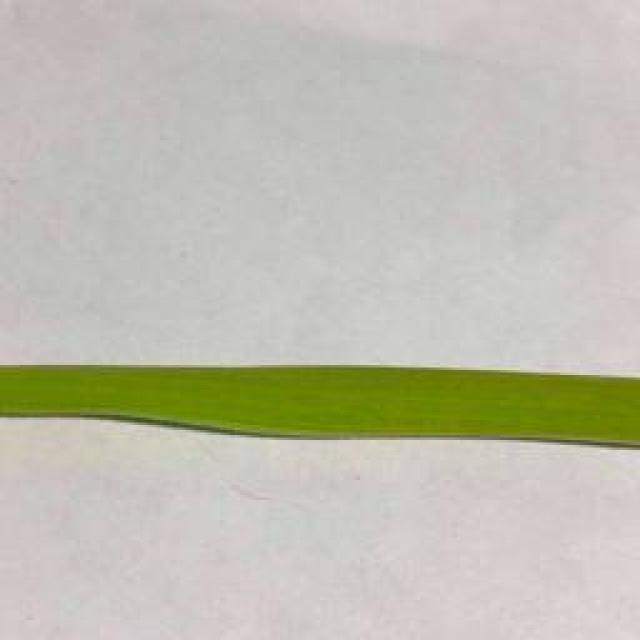Healthy-Plant: (3, 363, 640, 452)
